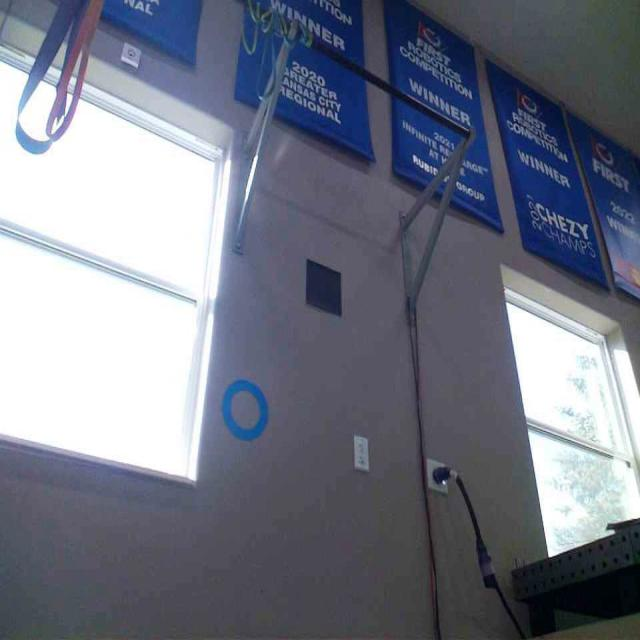ring_blue: (221, 376, 268, 440)
square_black: (305, 257, 342, 315)
